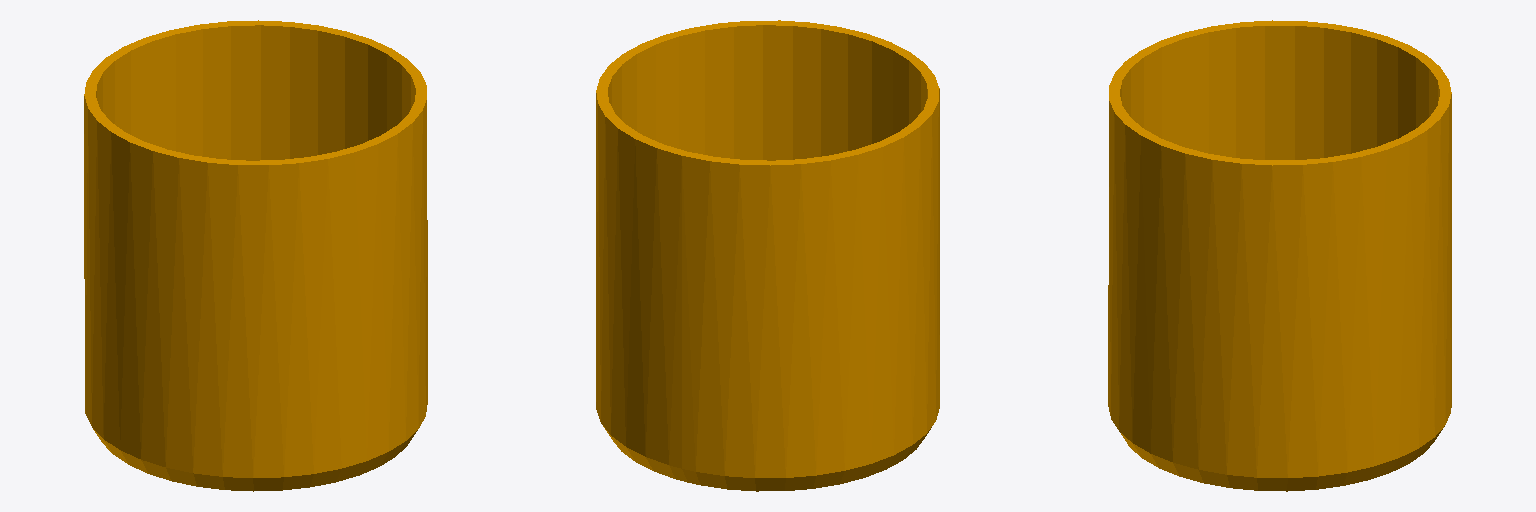
robot.urdf — cup:
<robot
  name="cup">
  <link
    name="cup">
    <inertial>
      <origin
        xyz="-9.9575E-18 7.26026876596943E-18 0.067128"
        rpy="0 0 0" />
      <mass
        value="0.43389" />
      <inertia
        ixx="0.00215222675672273"
        ixy="4.23013262131971E-19"
        ixz="9.87388875528404E-20"
        iyy="0.00215222675672273"
        iyz="2.55559321112363E-19"
        izz="0.00206384325221126" />
    </inertial>
    <visual>
      <origin
        xyz="0 0 0"
        rpy="1.5707963267949 0 0" />
      <geometry>
        <mesh
          filename="package://sawyer-robot-learning/sawyer_gazebo_env/models/cup/cup.STL" />
      </geometry>
     <!--  <material
        name="">
        <color
          rgba="0.79216 0.81961 0.93333 1" />
      </material> -->
    </visual>
    <collision>
      <origin
        xyz="0 0 0"
        rpy="1.5707963267949 0 0" />
      <geometry>
        <mesh
          filename="package://sawyer-robot-learning/sawyer_gazebo_env/models/cup/cup.STL" />
      </geometry>
    </collision>
  </link>
  <gazebo reference="cup">
      <material>Gazebo/Red</material>
      <mu1>1000</mu1>
      <mu2>1000</mu2>
  </gazebo>

</robot>

--- Render facts (derived) ---
3 views of the same robot in one strip: view 1: azimuth 30°, elevation 25°; view 2: azimuth 150°, elevation 25°; view 3: azimuth 270°, elevation 25° (orthographic).
Model cup with 1 links and 0 joints (none), rooted at cup, posed all joints at 0.
Links seen in each view (by area): view 1: cup; view 2: cup; view 3: cup.
Boxes of the visible links, x1,y1,x2,y2 form: cup: [84, 20, 427, 491]; cup: [596, 20, 939, 491]; cup: [1108, 20, 1451, 491].
Bounding box of the posed robot: 0.1498 × 0.15 × 0.1594 m (x, y, z).
Meshes: 1 distinct files referenced, 1 mesh visuals loaded (1 binary STL).